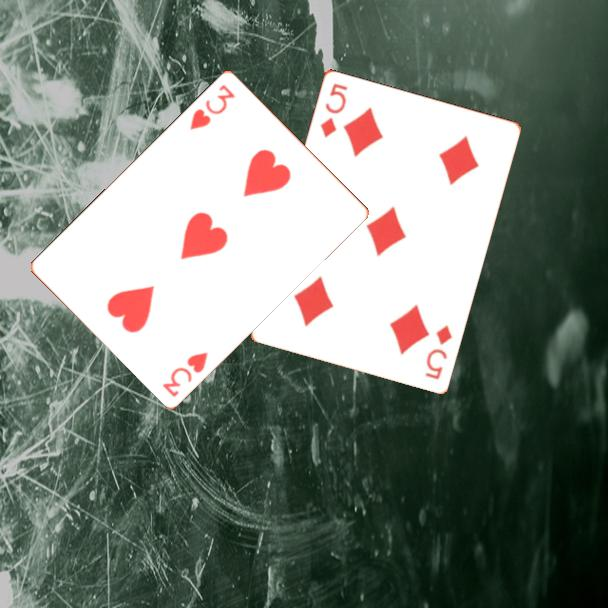d05: (316, 79, 350, 140), (421, 321, 455, 382)
h03: (186, 80, 238, 133), (159, 348, 211, 400)
